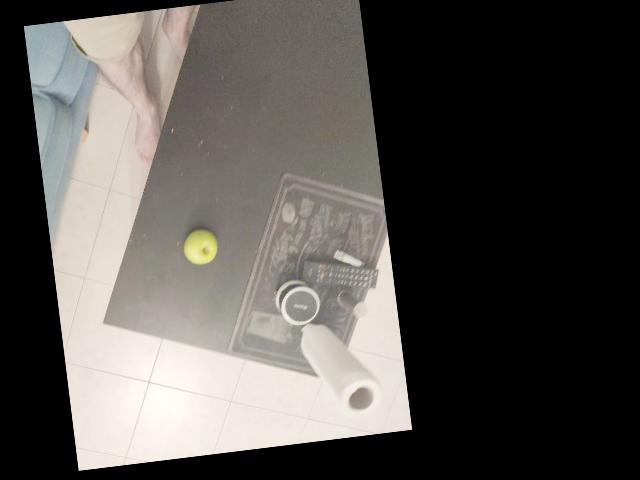apple: (157, 282, 209, 330)
